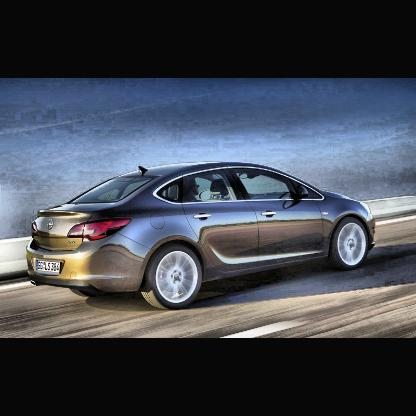Buick Verano Sedan 2012: (25, 162, 377, 312)
